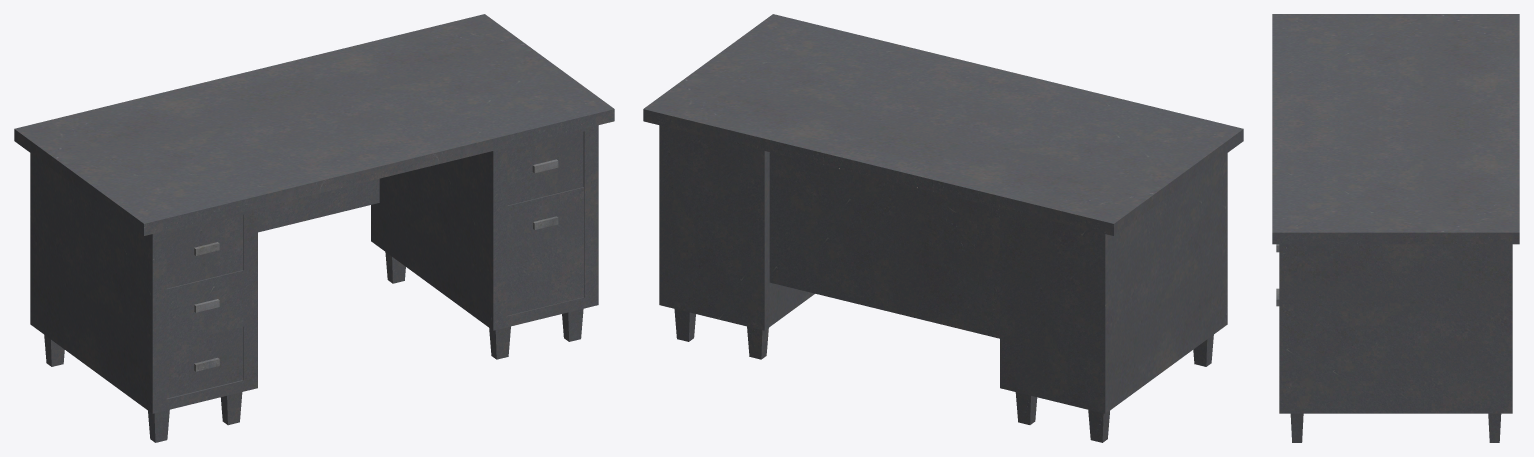
File: Prop_Bgz01.glb
3 renders of one model, left to right at view 1: azimuth 30°, elevation 25°; view 2: azimuth 150°, elevation 25°; view 3: azimuth 270°, elevation 25°, orthographic. The views are drawn at different scales.
Parts seen in each view (by area): view 1: xiutz_bgz01; view 2: xiutz_bgz01; view 3: xiutz_bgz01.
Boxes of the visible parts, left/top/right/bottom form: xiutz_bgz01: left=14, top=14, right=614, bottom=442; xiutz_bgz01: left=643, top=14, right=1243, bottom=442; xiutz_bgz01: left=1272, top=14, right=1519, bottom=442.
Size of the model in its own units: 2.96 by 1.39 by 1.41.
Materials: 1 (1 with a texture image).
